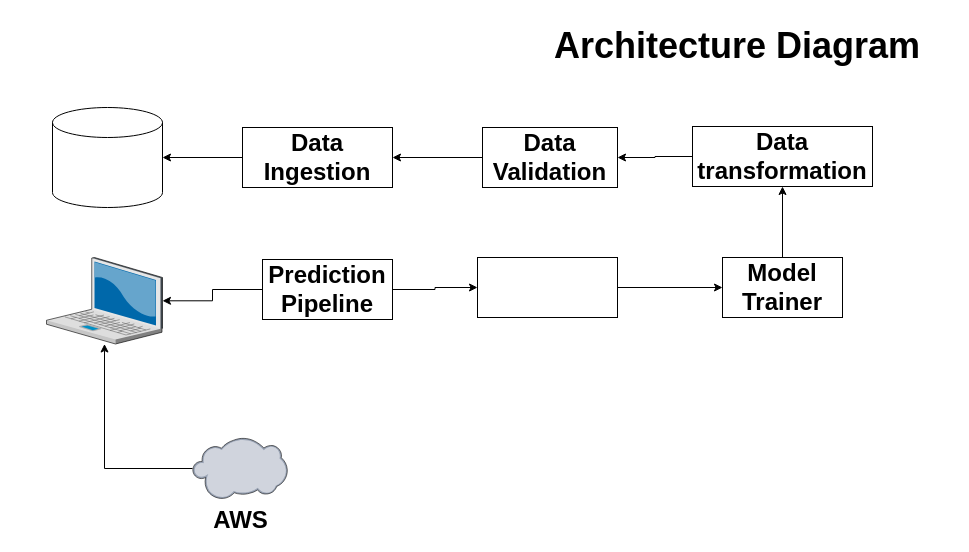
Some shapes in this 969 by 552 pixel diagram are drawn without their labels. The shapes that lost their labels are listed below. From the top down, each one's centre as x and y in pixels, then its label:
At [107,157]: "Kaggle".
At [104,300]: "GitHub Actions".
At [547,287]: "Model Evaluation".
